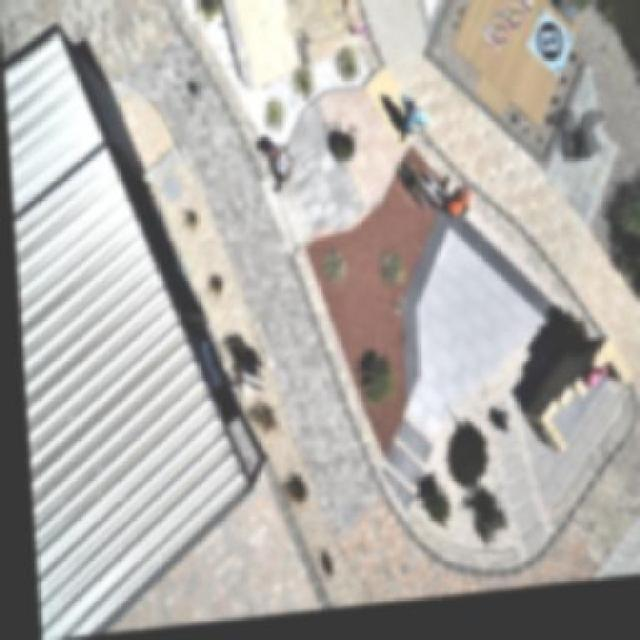Person: (385, 94, 437, 157), (259, 142, 296, 201), (442, 186, 473, 234)
